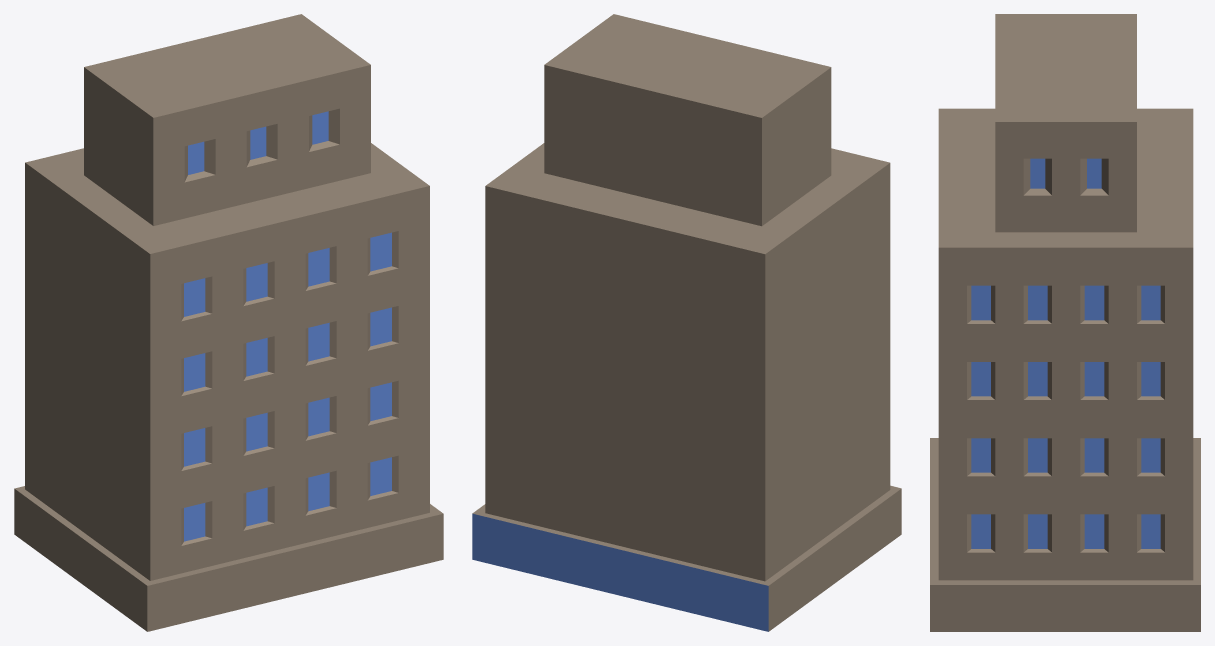
File: fbhome_2.fbx
3 renders of one model, left to right at view 1: azimuth 30°, elevation 25°; view 2: azimuth 150°, elevation 25°; view 3: azimuth 270°, elevation 25°, orthographic.
Visible parts, largest first — view 1: Cube.019; view 2: Cube.019; view 3: Cube.019.
Boxes of the visible parts, <box> form: Cube.019: <box>14,14,443,631</box>; Cube.019: <box>472,14,901,631</box>; Cube.019: <box>930,14,1200,631</box>.
Bounding box in the file's own units: 670 × 1040 × 521.
